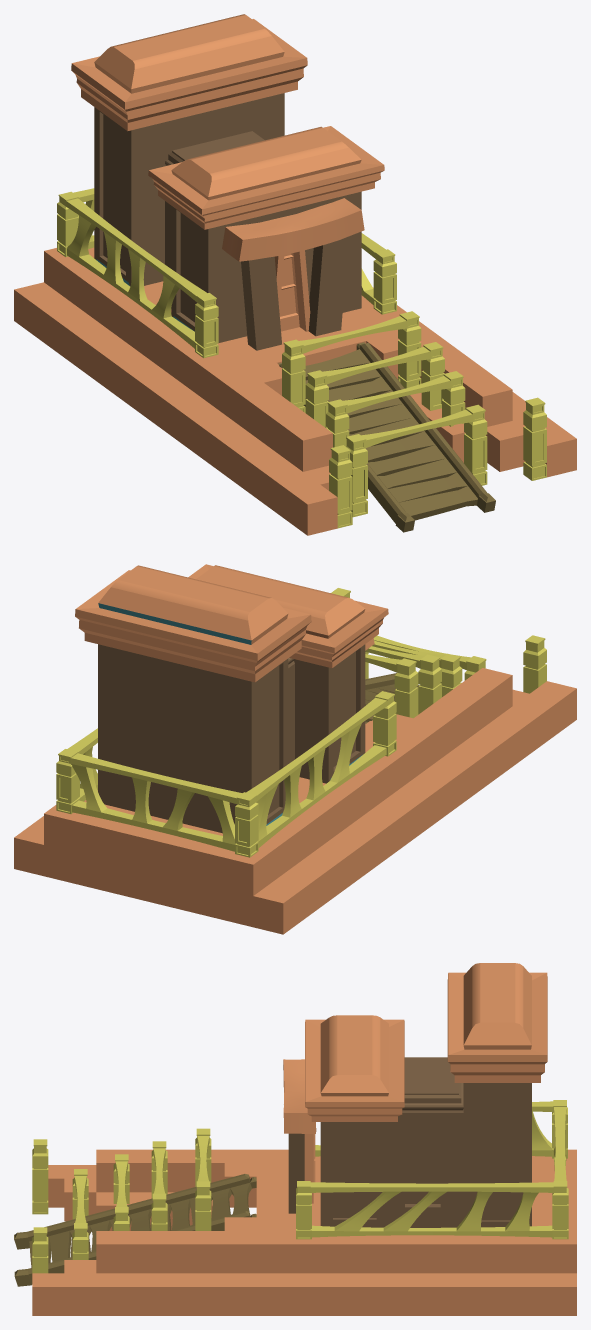
The model's file is Templo.FBX.
The picture shows the model from 3 angles, top to bottom: view 1: azimuth 30°, elevation 25°; view 2: azimuth 150°, elevation 25°; view 3: azimuth 270°, elevation 25°; orthographic projection. The views are drawn at different scales.
Parts seen in each view (by area): view 1: Box095, Box082, Box183, Box190, Box079, Box080, Box002, Box012, Box207, Box209, Box081, Box150 (+38 smaller); view 2: Box095, Box190, Box082, Box161, Box210, Box012, Box207, Box160, Box180, Box181, Box179, Box178 (+44 smaller); view 3: Box095, Box082, Box190, Box094, Box183, Box080, Box012, Box207, Box002, Box001, Box004, Box005 (+50 smaller).
Part boxes in pixels (x1,y1,x2,y2): Box095: [71, 14, 307, 286]; Box082: [148, 126, 384, 342]; Box183: [278, 342, 495, 532]; Box190: [57, 188, 396, 358]; Box079: [241, 236, 348, 350]; Box080: [222, 198, 364, 261]; Box002: [346, 404, 487, 517]; Box012: [282, 311, 421, 412]; Box207: [305, 342, 444, 428]; Box209: [326, 371, 465, 447]; Box081: [274, 250, 310, 331]; Box150: [290, 484, 337, 535]; Box095: [75, 565, 311, 833]; Box190: [56, 691, 396, 857]; Box082: [188, 564, 388, 783]; Box161: [253, 883, 300, 934]; Box210: [223, 849, 270, 895]; Box012: [365, 654, 418, 718]; Box207: [365, 646, 441, 714]; Box160: [14, 825, 43, 876]; Box180: [133, 828, 173, 873]; Box181: [103, 821, 143, 866]; Box179: [163, 835, 202, 881]; Box178: [193, 843, 231, 888]; Box095: [447, 963, 547, 1227]; Box082: [305, 1015, 404, 1227]; Box190: [296, 1100, 568, 1239]; Box094: [389, 1057, 463, 1227]; Box183: [14, 1174, 256, 1286]; Box080: [283, 1059, 316, 1133]; Box012: [195, 1128, 211, 1230]; Box207: [151, 1141, 167, 1230]; Box002: [72, 1169, 88, 1259]; Box001: [32, 1273, 64, 1315]; Box004: [64, 1273, 96, 1315]; Box005: [96, 1273, 128, 1315].
Size of the model in its own units: 900 by 944 by 1757.
